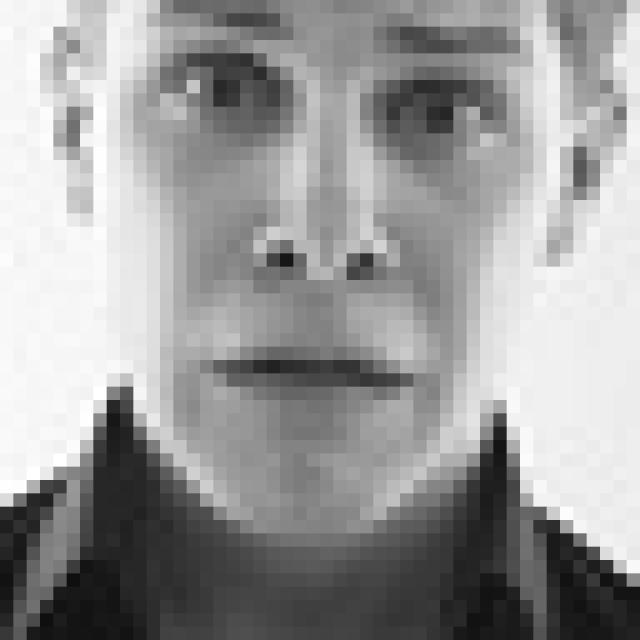fear: (130, 0, 540, 443)
